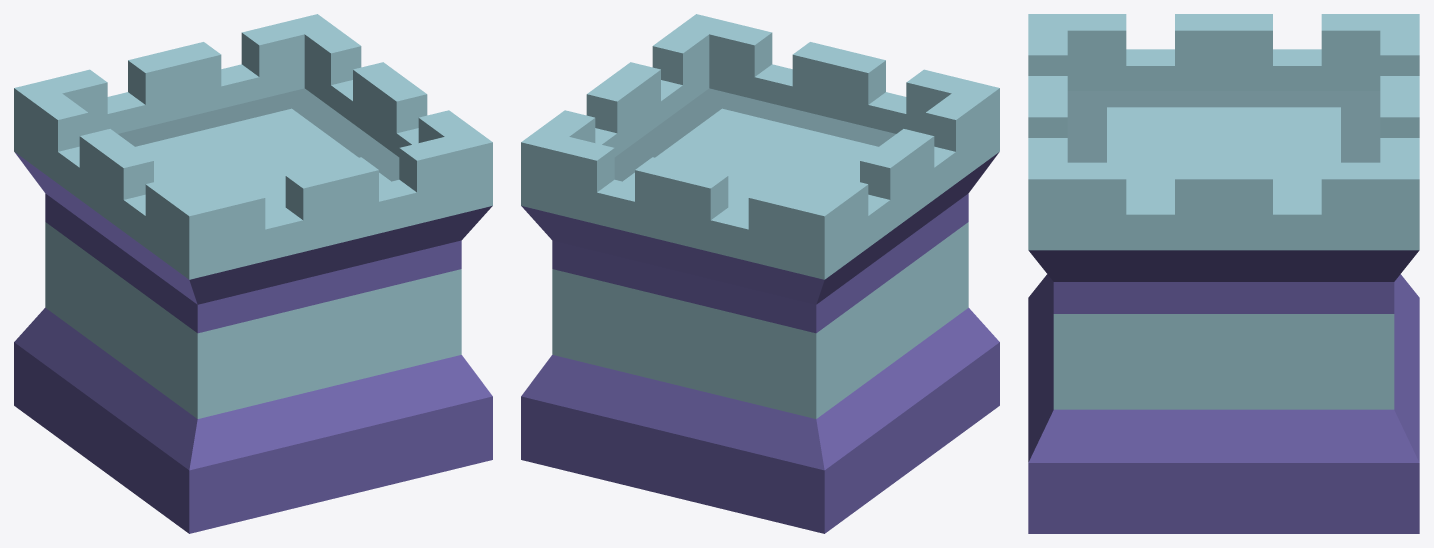
The model's file is towersquare_sampled.fbx.
The picture shows the model from 3 angles, left to right: view 1: azimuth 30°, elevation 25°; view 2: azimuth 150°, elevation 25°; view 3: azimuth 270°, elevation 25°; orthographic projection. The views are drawn at different scales.
Parts seen in each view (by area): view 1: towerSquare_sampleD; view 2: towerSquare_sampleD; view 3: towerSquare_sampleD.
Boxes of the visible parts, left/top/right/bottom form: towerSquare_sampleD: left=14, top=14, right=492, bottom=533; towerSquare_sampleD: left=521, top=14, right=999, bottom=533; towerSquare_sampleD: left=1028, top=14, right=1419, bottom=533.
Size of the model in its own units: 10 by 10 by 10.
